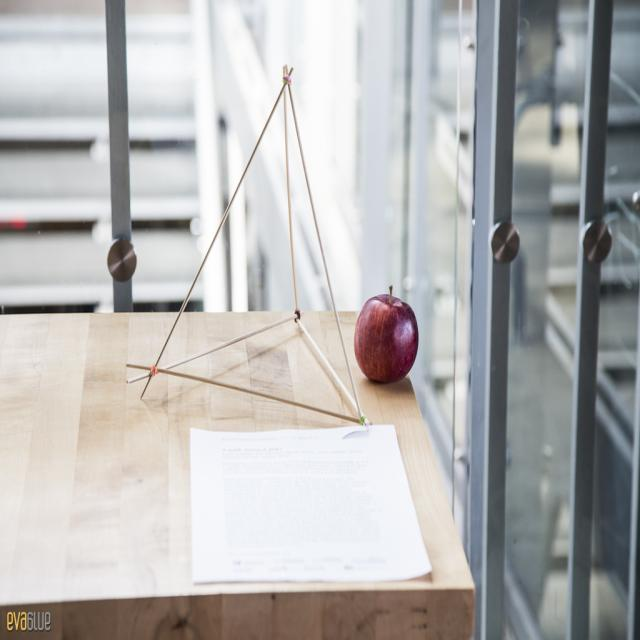Healty Apple: (355, 284, 424, 386)
